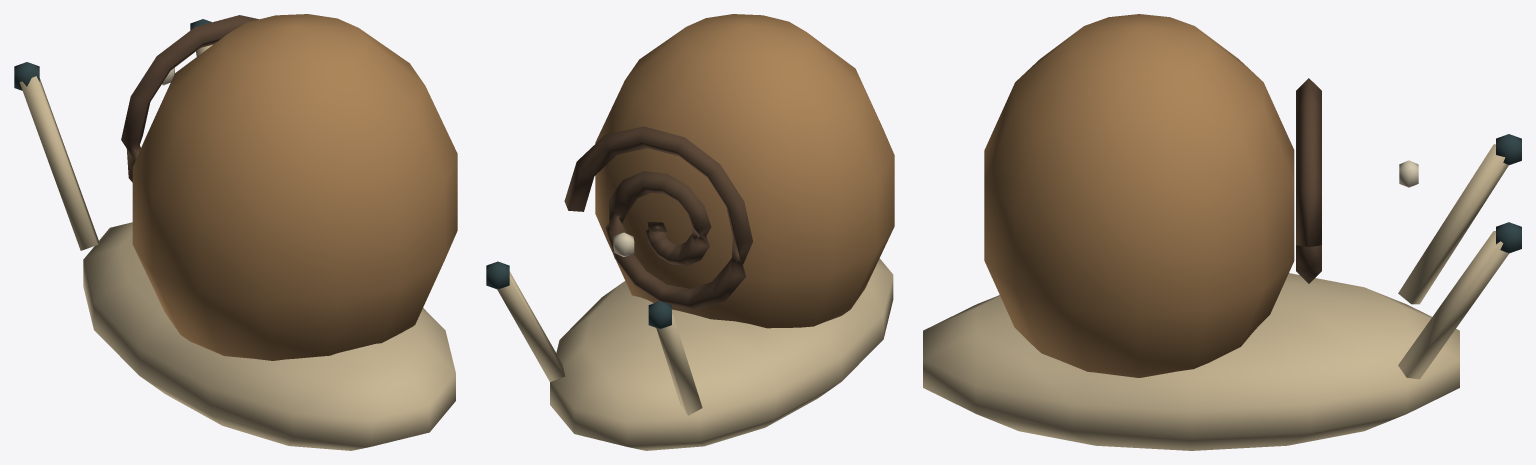
Rendered from insect_snail.glb.
3 renders of one model, left to right at view 1: azimuth 30°, elevation 25°; view 2: azimuth 150°, elevation 25°; view 3: azimuth 270°, elevation 25°, orthographic. The views are drawn at different scales.
Bounding box in the file's own units: 0.078 × 0.1 × 0.1378.
